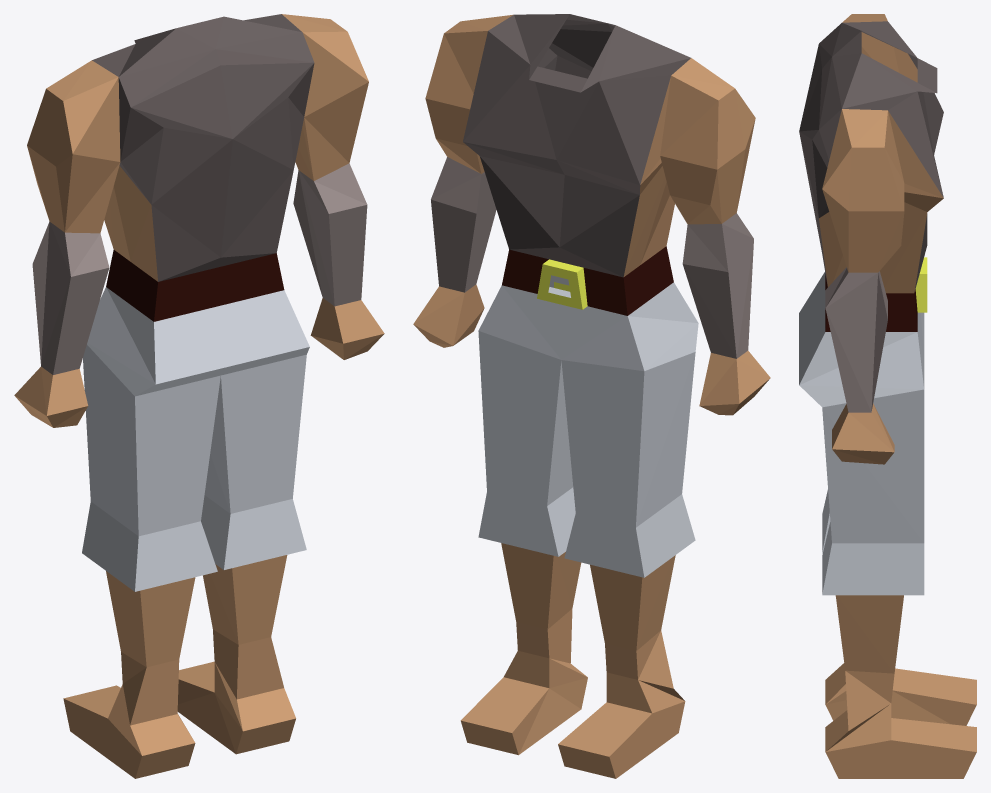
File: npc_world_black_knight_titan_1.obj
The picture shows the model from 3 angles, left to right: view 1: azimuth 30°, elevation 25°; view 2: azimuth 150°, elevation 25°; view 3: azimuth 270°, elevation 25°; orthographic projection. The views are drawn at different scales.
Size of the model in its own units: 0.8906 by 1.84 by 0.4219.
